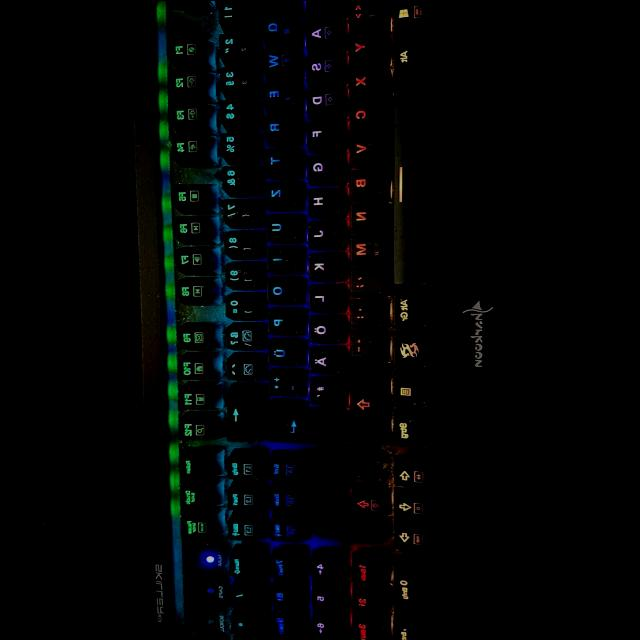0: (222, 291, 257, 317)
1: (215, 0, 249, 21)
2: (217, 30, 251, 54)
3: (217, 64, 253, 89)
4: (218, 98, 252, 122)
5: (217, 129, 251, 155)
6: (218, 163, 253, 189)
7: (219, 196, 253, 220)
8: (220, 228, 255, 253)
9: (222, 260, 256, 286)
a: (303, 17, 338, 43)
accent: (223, 354, 259, 378)
ae: (305, 347, 339, 371)
alt-left: (390, 34, 426, 71)
altgr-right: (388, 291, 426, 325)
b: (345, 166, 381, 194)
c: (346, 97, 380, 125)
caret: (214, 0, 249, 3)
comma: (346, 268, 380, 292)
d: (303, 84, 338, 110)
del: (223, 386, 255, 440)
e: (261, 78, 295, 104)
enter: (264, 402, 342, 442)
f: (303, 118, 337, 144)
g: (303, 151, 337, 177)
h: (304, 185, 338, 211)
hash: (306, 378, 340, 402)
i: (263, 245, 295, 269)
j: (304, 219, 338, 243)
k: (304, 252, 338, 276)
keyboard: (129, 0, 503, 640)
l: (304, 284, 338, 308)
less: (345, 0, 381, 22)
m: (345, 234, 381, 260)
minus: (347, 331, 381, 355)
n: (346, 201, 382, 227)
o: (263, 275, 296, 301)
oe: (305, 315, 339, 339)
p: (264, 308, 297, 332)
plus: (265, 370, 299, 394)
point: (346, 300, 380, 324)
q: (259, 11, 294, 38)
r: (261, 111, 294, 137)
s: (303, 50, 337, 76)
shift-lock: (303, 0, 341, 13)
shift-right: (347, 364, 381, 444)
space: (389, 77, 430, 285)
ss: (223, 323, 259, 349)
strg-right: (390, 412, 427, 446)
t: (261, 145, 295, 170)
tab: (259, 0, 295, 10)
u: (262, 212, 296, 238)
ue: (264, 339, 298, 363)
v: (345, 133, 380, 159)
w: (260, 45, 295, 70)
x: (346, 65, 381, 91)
y: (345, 31, 380, 56)
z: (261, 179, 295, 204)
